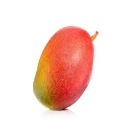mango: (33, 27, 93, 110)
